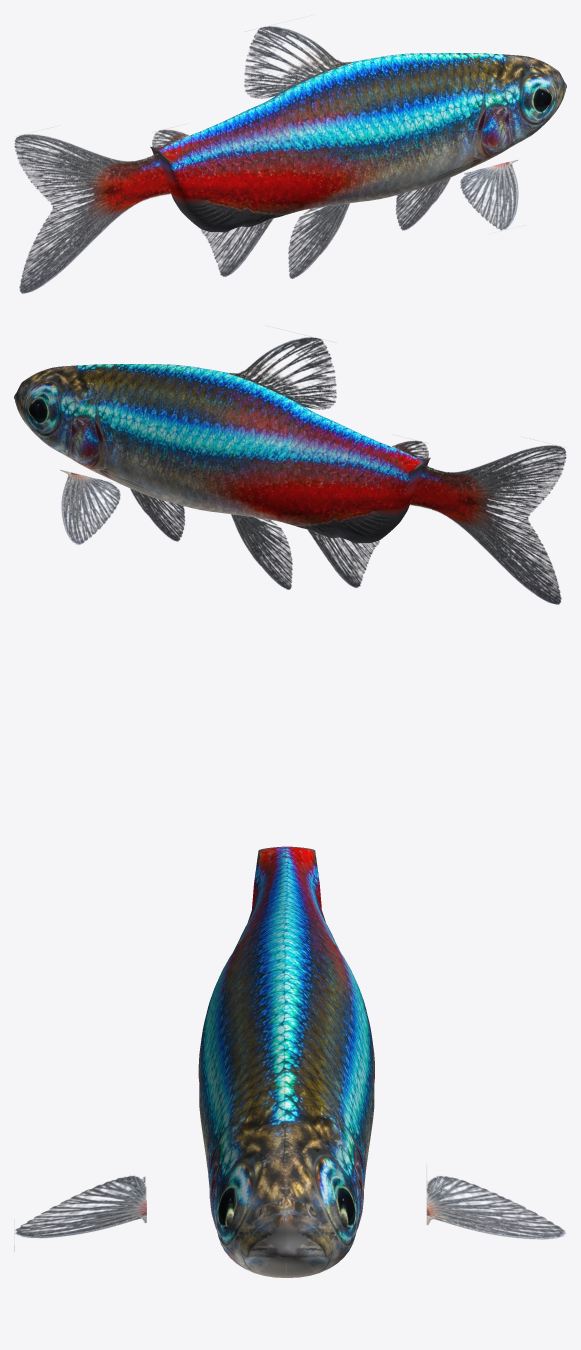
Rendered from species-neon.glb.
The picture shows the model from 3 angles, top to bottom: view 1: azimuth 30°, elevation 25°; view 2: azimuth 150°, elevation 25°; view 3: azimuth 270°, elevation 25°; orthographic projection. The views are drawn at different scales.
Parts seen in each view (by area): view 1: neon; view 2: neon; view 3: neon.
Boxes of the visible parts, box(x1,y1,x2,y2) form: neon: box(14, 26, 566, 293); neon: box(14, 337, 566, 604); neon: box(14, 846, 565, 1277).
Size of the model in its own units: 0.0351 by 0.0158 by 0.0173.
1 material, 1 textured.
